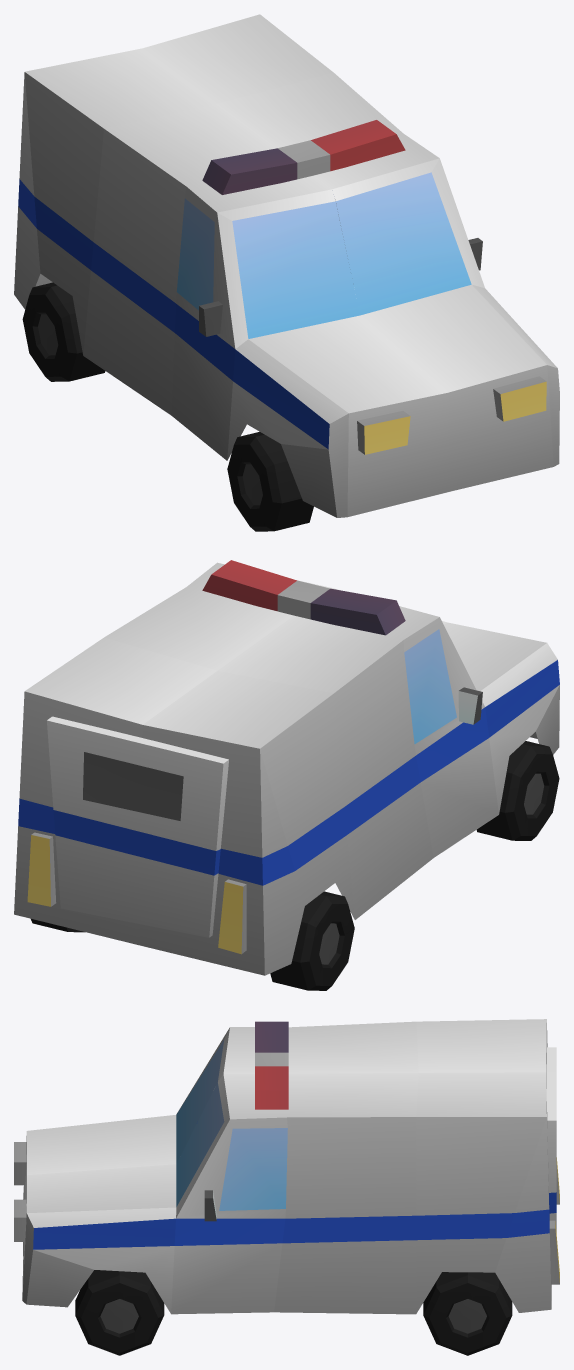
Rendered from police_big.fbx.
3 views of the same model, one above another, from view 1: azimuth 30°, elevation 25°; view 2: azimuth 150°, elevation 25°; view 3: azimuth 270°, elevation 25° (orthographic). The views are drawn at different scales.
Parts seen in each view (by area): view 1: pb_base, pb_wheels, pb_signals, pb_light_front, pb_mirrors; view 2: pb_base, pb_backdoor, pb_wheels, pb_signals, pb_light_back, pb_mirrors; view 3: pb_base, pb_wheels, pb_signals, pb_backdoor, pb_light_front, pb_light_back.
Part boxes in pixels (box(x1,y1,x2,y2)): pb_base: box(14, 14, 559, 517); pb_wheels: box(22, 282, 313, 531); pb_signals: box(202, 120, 405, 194); pb_light_front: box(357, 376, 546, 454); pb_mirrors: box(199, 238, 482, 336); pb_base: box(14, 562, 559, 975); pb_backdoor: box(46, 716, 228, 937); pb_wheels: box(31, 741, 559, 990); pb_signals: box(202, 560, 405, 635); pb_light_back: box(27, 832, 246, 954); pb_mirrors: box(458, 687, 482, 724); pb_base: box(22, 1019, 551, 1314); pb_wheels: box(75, 1270, 512, 1355); pb_signals: box(255, 1021, 288, 1109); pb_backdoor: box(546, 1047, 556, 1232); pb_light_front: box(14, 1142, 26, 1241); pb_light_back: box(549, 1157, 559, 1284).
Bounding box in the file's own units: 269 × 521 × 256.
